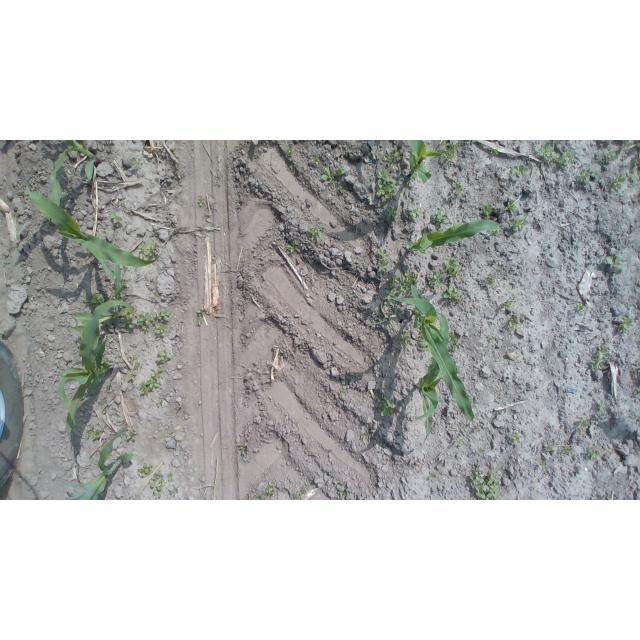Maize: (55, 300, 137, 470), (24, 190, 162, 283), (391, 284, 474, 427), (59, 425, 133, 500), (69, 260, 132, 332), (415, 313, 449, 444), (47, 141, 102, 208), (404, 220, 501, 253), (407, 140, 444, 184)
Weeds: (470, 468, 501, 501), (389, 269, 417, 292), (367, 310, 397, 331), (376, 169, 396, 199), (139, 368, 162, 394), (320, 167, 346, 185), (377, 395, 397, 417), (137, 240, 157, 261), (137, 311, 157, 332), (441, 141, 459, 164), (382, 147, 402, 167), (443, 259, 462, 278), (121, 307, 138, 328), (606, 254, 627, 271), (82, 292, 104, 308), (443, 286, 463, 303), (535, 143, 553, 161), (509, 215, 528, 232), (578, 166, 595, 185), (431, 208, 449, 225), (416, 333, 430, 354), (151, 480, 165, 499), (378, 249, 390, 271), (611, 173, 625, 191), (397, 331, 410, 349), (85, 425, 100, 440), (551, 153, 566, 168), (136, 463, 152, 477), (619, 317, 633, 333), (308, 225, 322, 241), (95, 357, 110, 371), (386, 207, 400, 222), (509, 165, 528, 176), (156, 350, 172, 363), (587, 445, 601, 459), (408, 203, 422, 217), (384, 289, 396, 305), (481, 203, 496, 215), (158, 309, 170, 323), (453, 182, 464, 197), (434, 271, 445, 286), (110, 212, 123, 224), (576, 419, 588, 432), (484, 275, 496, 288), (597, 343, 608, 357), (499, 299, 513, 310), (510, 432, 522, 444), (562, 150, 574, 162), (132, 157, 145, 168), (591, 359, 604, 370), (156, 324, 167, 336), (575, 303, 586, 315), (505, 201, 516, 212), (606, 152, 617, 163), (104, 318, 116, 328), (296, 489, 306, 500), (508, 316, 518, 327), (196, 311, 203, 326), (126, 430, 136, 440), (454, 436, 464, 446), (562, 446, 572, 456), (287, 243, 297, 253), (238, 442, 247, 453), (622, 142, 632, 151), (537, 462, 548, 470), (128, 372, 137, 381), (266, 485, 274, 495), (285, 146, 293, 156), (338, 385, 346, 395), (448, 331, 456, 341), (599, 403, 609, 410), (599, 495, 612, 500), (427, 278, 435, 286), (198, 198, 206, 206), (154, 472, 161, 481), (419, 290, 426, 299), (131, 361, 139, 368), (338, 491, 346, 498), (476, 449, 484, 456), (314, 156, 321, 164), (253, 495, 263, 500), (455, 341, 462, 348), (634, 386, 640, 394), (631, 367, 637, 375), (490, 149, 498, 155), (447, 347, 455, 353), (106, 381, 113, 387), (429, 474, 436, 480), (339, 187, 345, 194), (168, 472, 173, 480), (545, 447, 553, 452), (467, 140, 477, 144), (157, 399, 163, 405), (169, 490, 175, 496), (151, 292, 158, 297), (451, 224, 457, 229), (296, 346, 303, 350), (474, 428, 479, 433), (360, 434, 365, 439), (489, 337, 494, 342), (552, 140, 557, 144), (356, 375, 361, 379), (637, 142, 640, 148), (178, 173, 184, 176), (462, 200, 466, 204), (143, 140, 147, 142), (403, 140, 406, 142)
